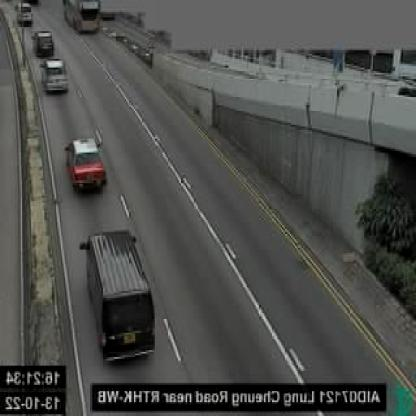Bus: (63, 0, 99, 33)
Car: (79, 231, 158, 362), (65, 137, 107, 195), (42, 58, 69, 96), (33, 30, 54, 58), (16, 1, 33, 25)
